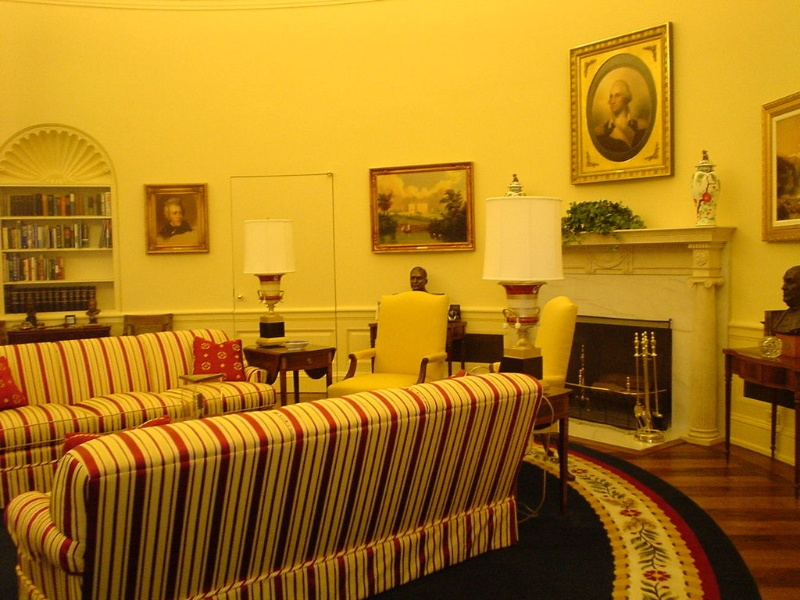chair: (335, 280, 456, 386)
couch: (14, 382, 529, 594), (4, 329, 275, 417)
